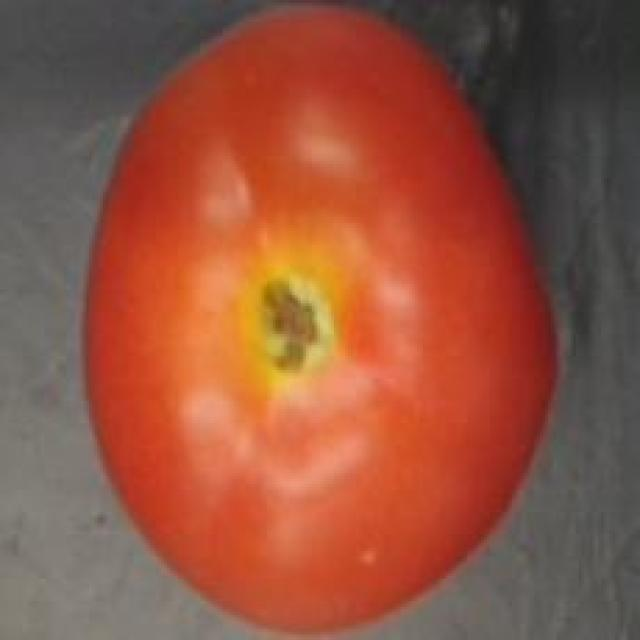ripe tomato: (70, 0, 573, 640)
